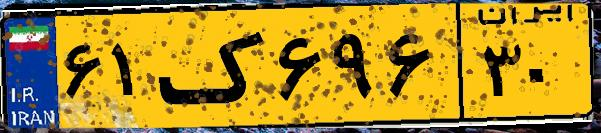0: (525, 38, 570, 115)
1: (110, 28, 158, 98)
3: (475, 38, 525, 113)
6: (270, 28, 330, 110), (385, 28, 445, 110), (57, 26, 110, 100)
9: (330, 28, 385, 110)
ک: (158, 12, 270, 120)
